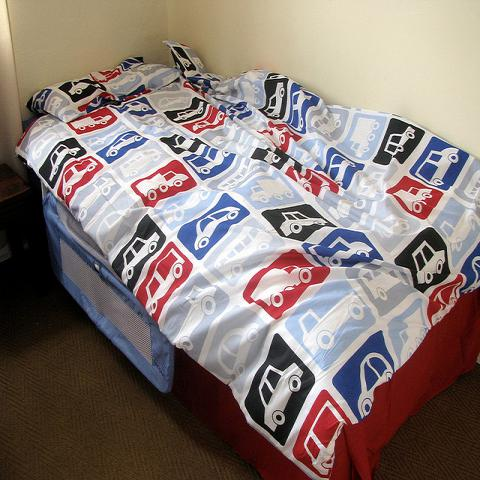car: (257, 361, 305, 434), (145, 248, 186, 317), (357, 351, 396, 420), (122, 232, 162, 290), (192, 206, 238, 248), (415, 147, 459, 187), (412, 240, 446, 285), (187, 148, 231, 174), (264, 82, 284, 118)
